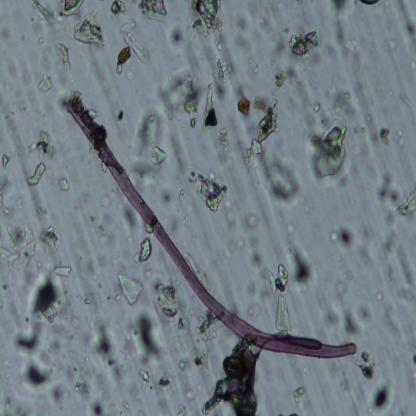Background material: (237, 99, 302, 205), (12, 275, 63, 395), (201, 345, 260, 415), (129, 103, 177, 178), (307, 115, 351, 188), (348, 42, 378, 143), (380, 222, 416, 302), (201, 37, 245, 101), (324, 278, 372, 335), (158, 66, 202, 127), (90, 316, 127, 387), (184, 166, 232, 216), (0, 223, 42, 278), (152, 280, 193, 335), (264, 261, 294, 336), (114, 21, 150, 73), (26, 130, 58, 188), (129, 313, 166, 363), (330, 0, 356, 62), (63, 355, 97, 402), (284, 242, 316, 291), (285, 68, 320, 112), (72, 8, 107, 50), (221, 210, 247, 261), (188, 1, 223, 38), (233, 11, 265, 51), (112, 270, 145, 308), (291, 25, 324, 62), (374, 168, 402, 209), (245, 208, 263, 270), (212, 121, 236, 167), (200, 81, 221, 133), (0, 174, 19, 222), (369, 380, 394, 415), (327, 224, 355, 254), (397, 0, 416, 42), (354, 345, 374, 383), (333, 86, 356, 119), (194, 313, 219, 343), (139, 0, 168, 24), (40, 225, 62, 256), (33, 0, 58, 26), (394, 190, 416, 218), (190, 346, 210, 376), (155, 368, 178, 393), (269, 28, 288, 57), (133, 236, 153, 263), (58, 0, 84, 19), (56, 42, 73, 68), (168, 27, 186, 48), (376, 125, 392, 148), (37, 72, 53, 94), (49, 383, 65, 405), (135, 367, 149, 392), (110, 0, 127, 18), (53, 262, 72, 278), (90, 398, 106, 416), (275, 68, 286, 90), (56, 175, 70, 191), (359, 0, 380, 10), (294, 385, 305, 404), (0, 150, 11, 167), (115, 107, 124, 121)
Microfibre: (69, 103, 357, 357)
